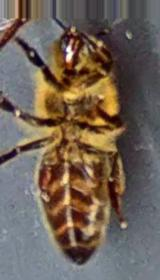varroa_mite: (31, 158, 57, 192)
